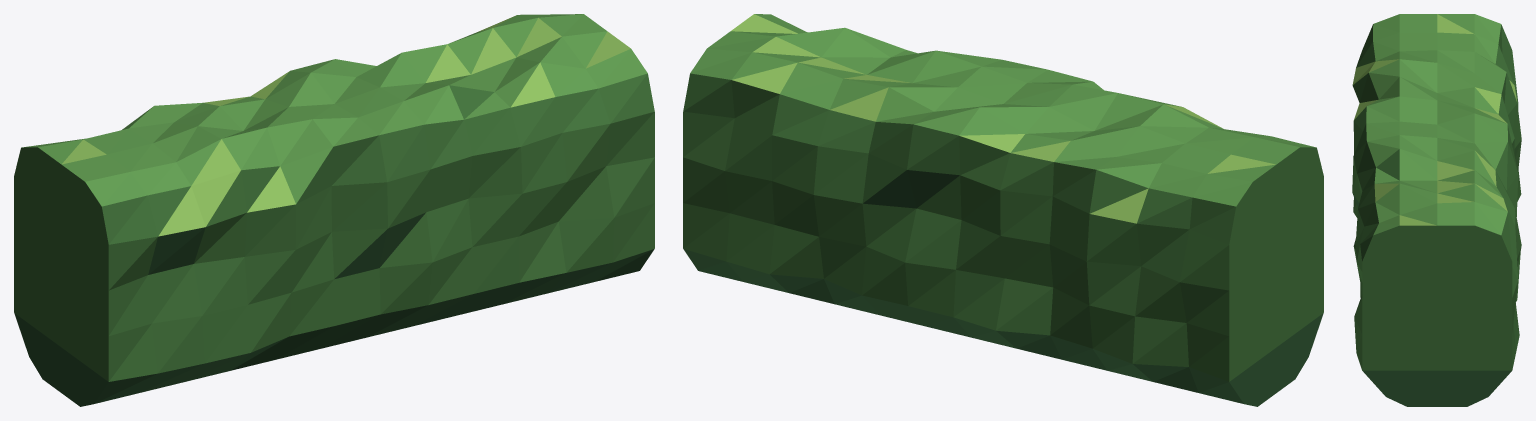
File: SC_Nat_Hedge_Boxwood_2m.gltf
3 renders of one model, left to right at view 1: azimuth 30°, elevation 25°; view 2: azimuth 150°, elevation 25°; view 3: azimuth 270°, elevation 25°, orthographic. The views are drawn at different scales.
Parts seen in each view (by area): view 1: SC_Nat_Hedge_Boxwood_2m; view 2: SC_Nat_Hedge_Boxwood_2m; view 3: SC_Nat_Hedge_Boxwood_2m.
Part boxes in pixels (left/top/right/bottom): SC_Nat_Hedge_Boxwood_2m: left=14, top=14, right=654, bottom=406; SC_Nat_Hedge_Boxwood_2m: left=683, top=14, right=1323, bottom=406; SC_Nat_Hedge_Boxwood_2m: left=1352, top=14, right=1521, bottom=406.
Size of the model in its own units: 2 by 0.8345 by 0.6774.
1 material, 1 textured.
